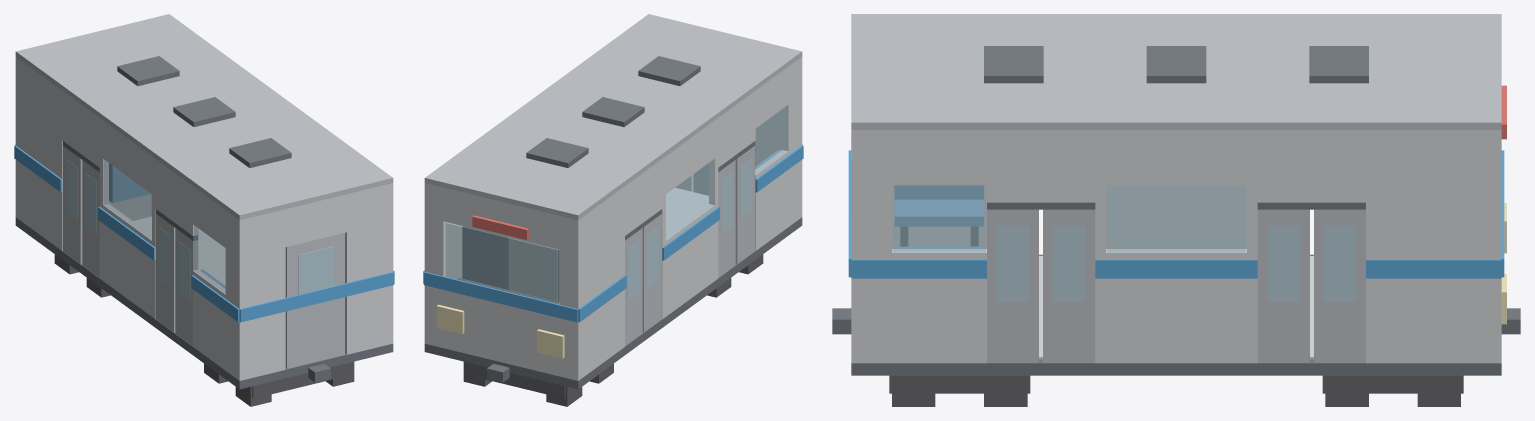
Rendered from train_subway_locomotive.glb.
3 views of the same model, side by side, from view 1: azimuth 30°, elevation 25°; view 2: azimuth 150°, elevation 25°; view 3: azimuth 270°, elevation 25° (orthographic). The views are drawn at different scales.
Visible parts, largest first — view 1: body; view 2: body; view 3: body.
Part boxes in pixels (x1,y1,x2,y2): body: [14, 14, 394, 406]; body: [423, 14, 803, 406]; body: [832, 14, 1520, 406].
Size of the model in its own units: 1.94 by 2.52 by 5.08.
